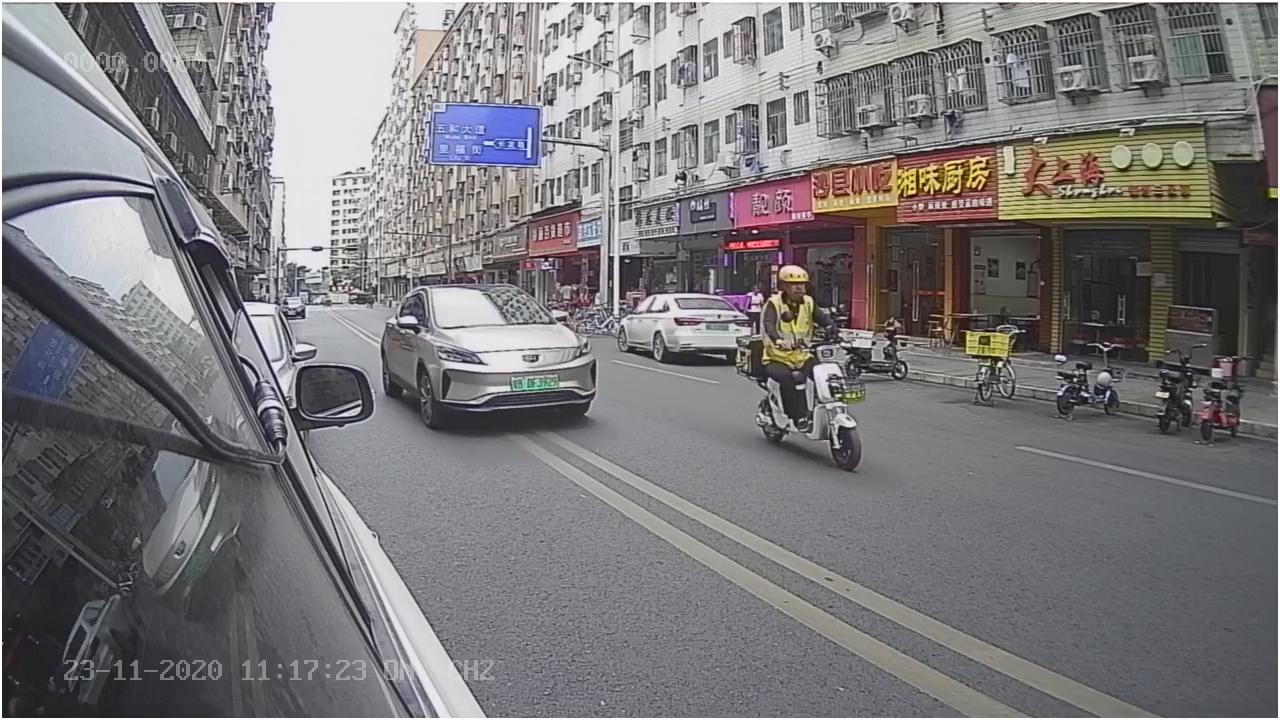person: (754, 265, 831, 349)
